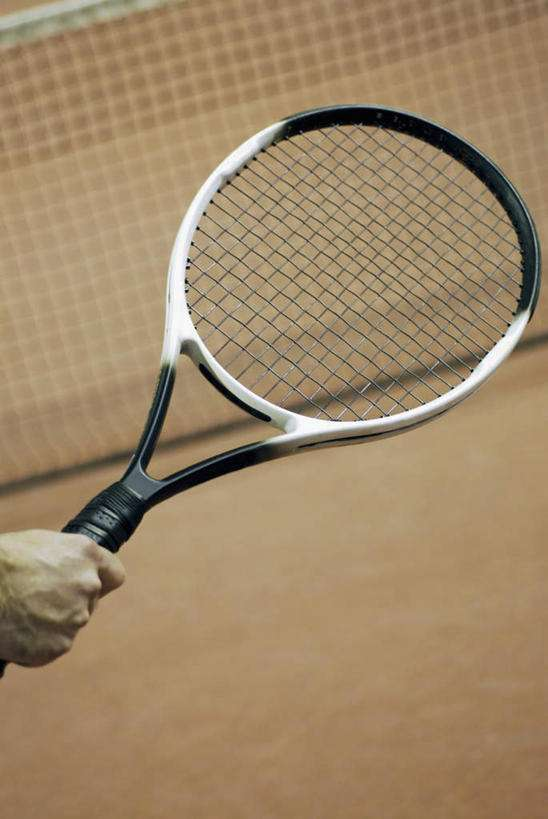no-phone: (1, 437, 178, 677)
